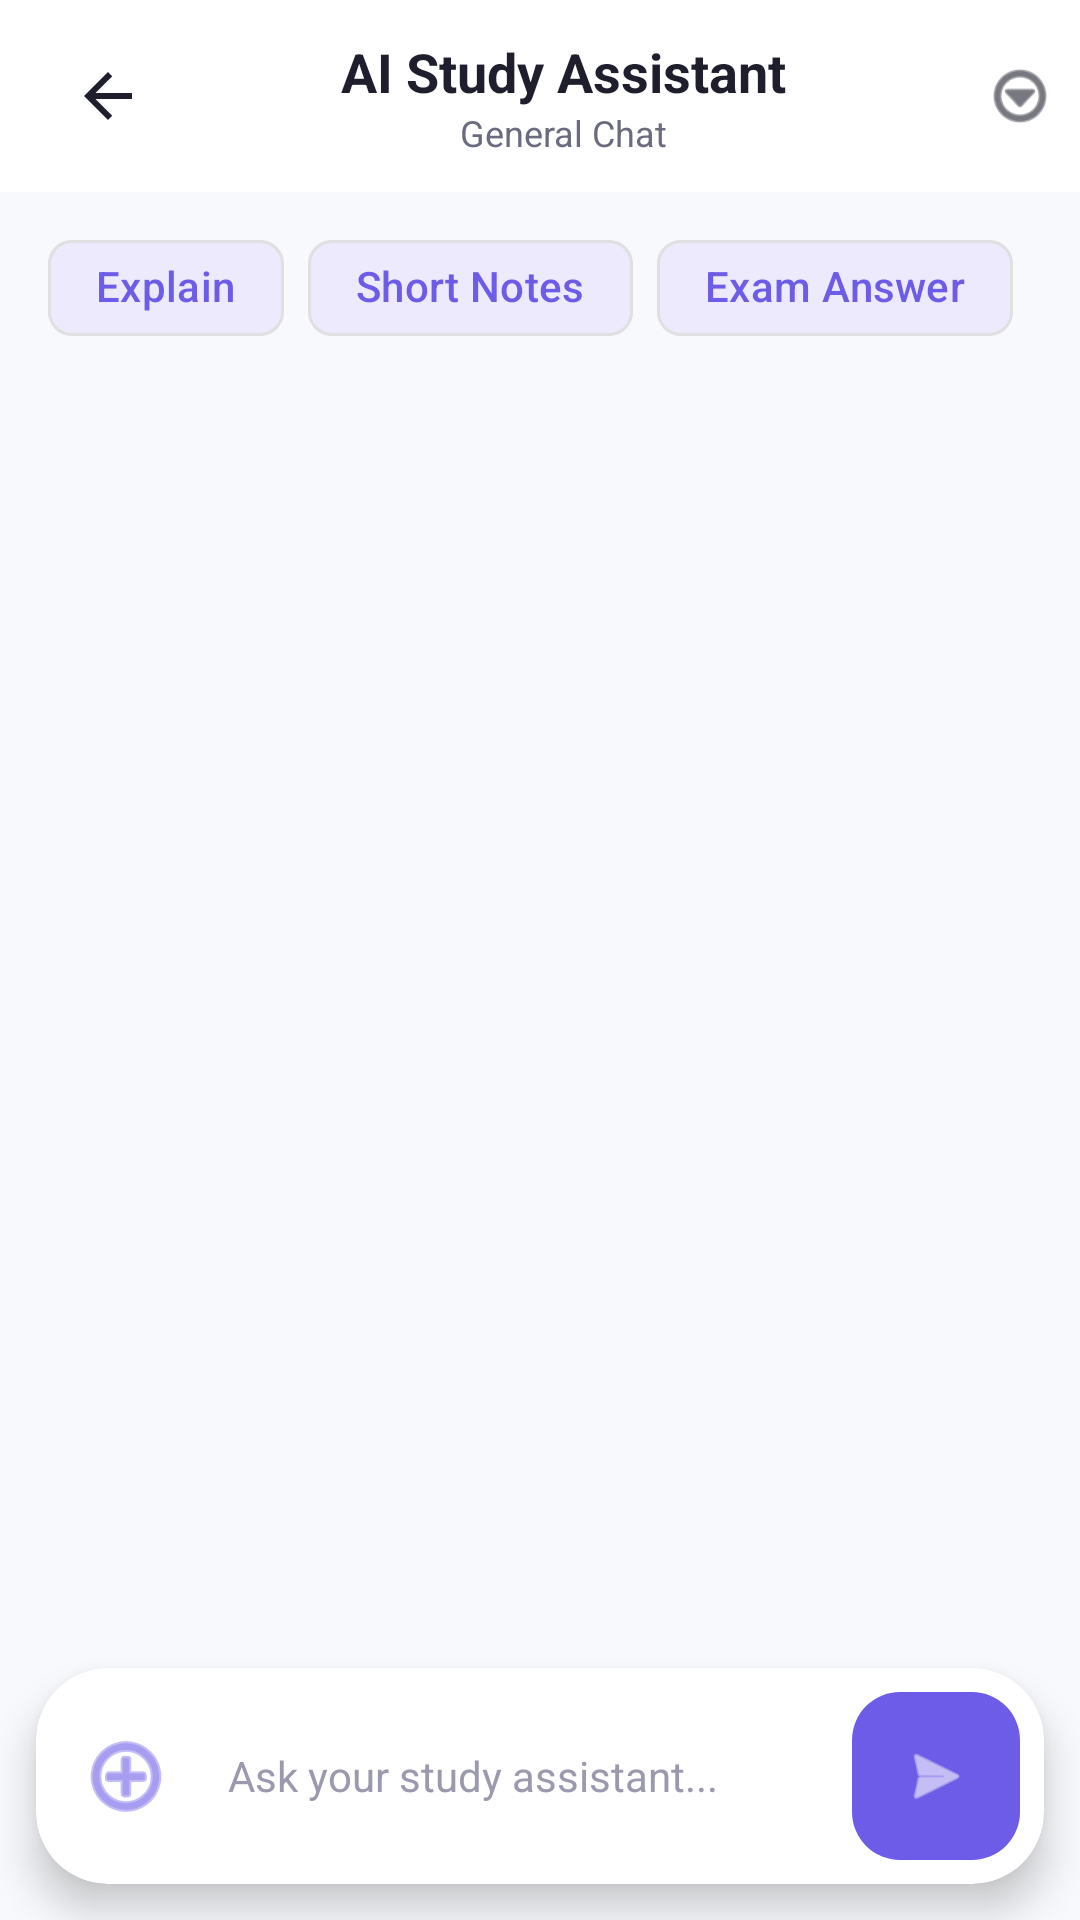

Icons on this 1080 × 1920 Android screen, each with the point to tap as [x,y]:
add: [126,1776]
back: [108,96]
more: [1020,96]
send: [936,1776]
